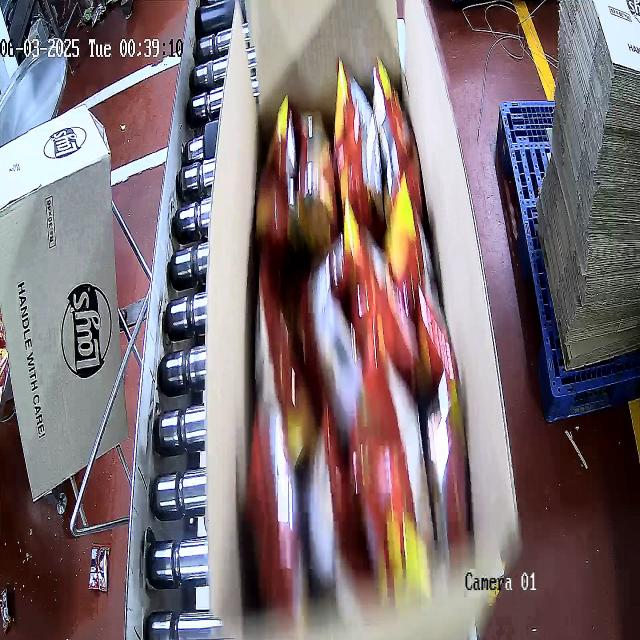MASALA: (251, 54, 471, 622)
